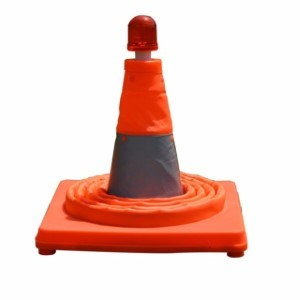traffic cone: (35, 59, 248, 258)
